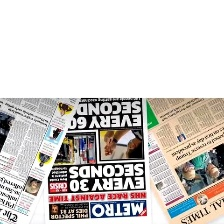news_paper: (44, 96, 145, 223), (0, 95, 82, 224), (145, 95, 224, 224)
